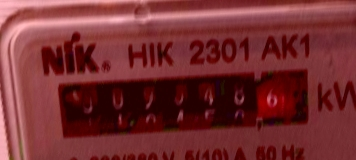0: (108, 85, 124, 109), (78, 87, 92, 114)
3: (168, 81, 184, 107)
4: (198, 79, 214, 107)
6: (261, 82, 279, 110)
8: (228, 78, 245, 107)
9: (138, 83, 154, 110)
screen: (46, 62, 319, 147)
